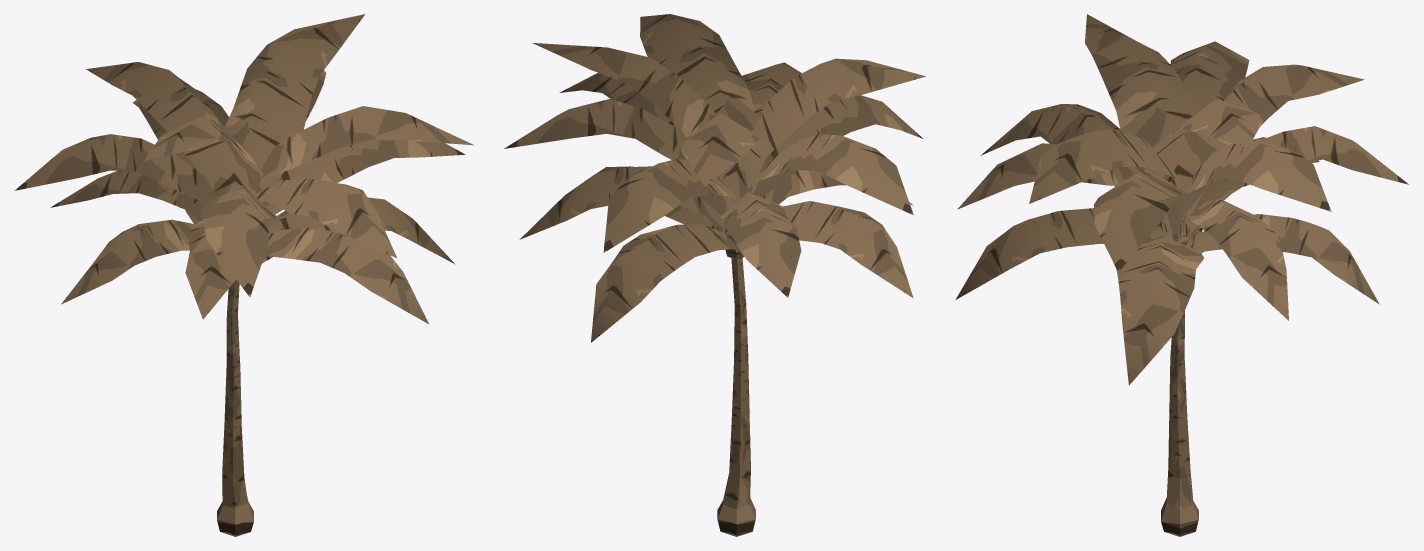
File: SM_Env_Tree_Palm_Small_04.fbx
3 views of the same model, side by side, from view 1: azimuth 30°, elevation 25°; view 2: azimuth 150°, elevation 25°; view 3: azimuth 270°, elevation 25° (orthographic). The views are drawn at different scales.
Parts seen in each view (by area): view 1: SM_Env_Tree_Palm_Small_04_LOD0; view 2: SM_Env_Tree_Palm_Small_04_LOD0; view 3: SM_Env_Tree_Palm_Small_04_LOD0.
Part boxes in pixels (<box>): SM_Env_Tree_Palm_Small_04_LOD0: <box>14,14,473,536</box>; SM_Env_Tree_Palm_Small_04_LOD0: <box>504,14,925,536</box>; SM_Env_Tree_Palm_Small_04_LOD0: <box>955,14,1409,536</box>.
Size of what is drawn, in the model's own units: 632 by 706 by 611.
